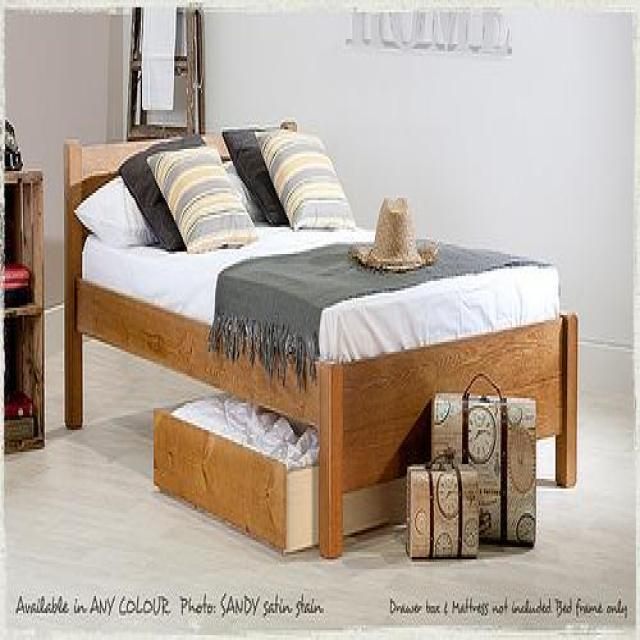bed: (62, 119, 562, 566)
